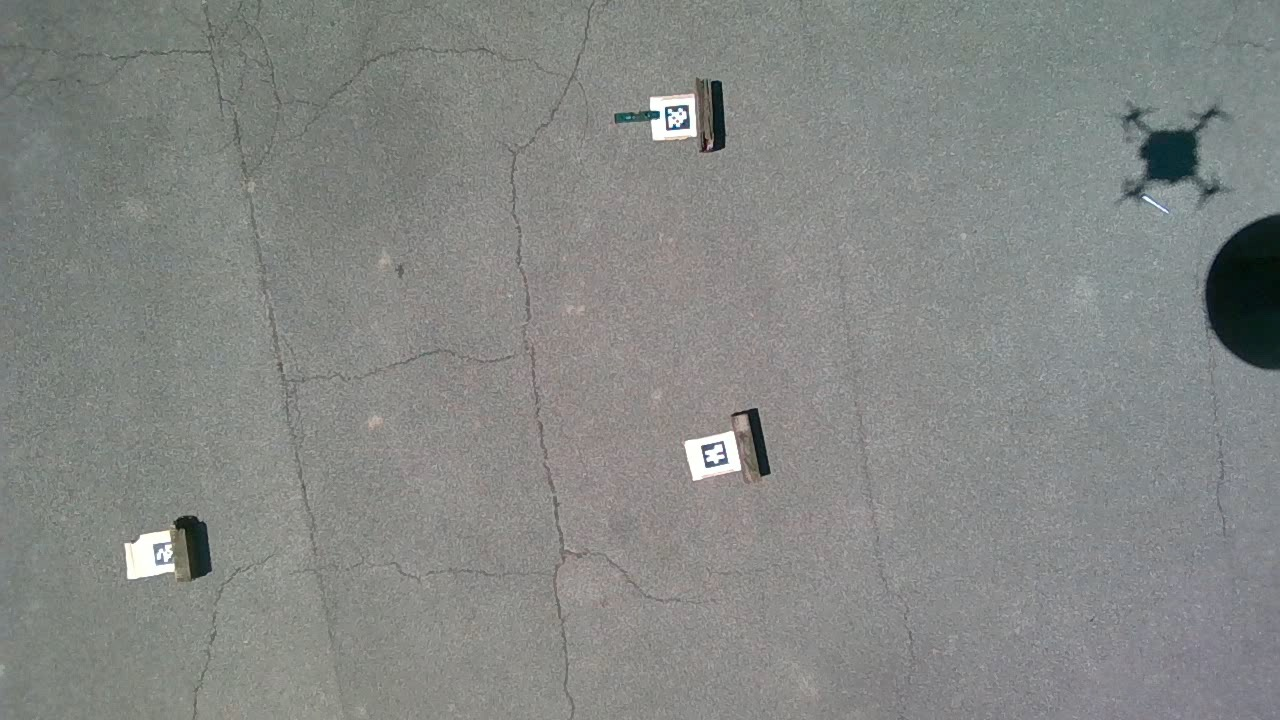probes: (1141, 195, 1170, 213)
